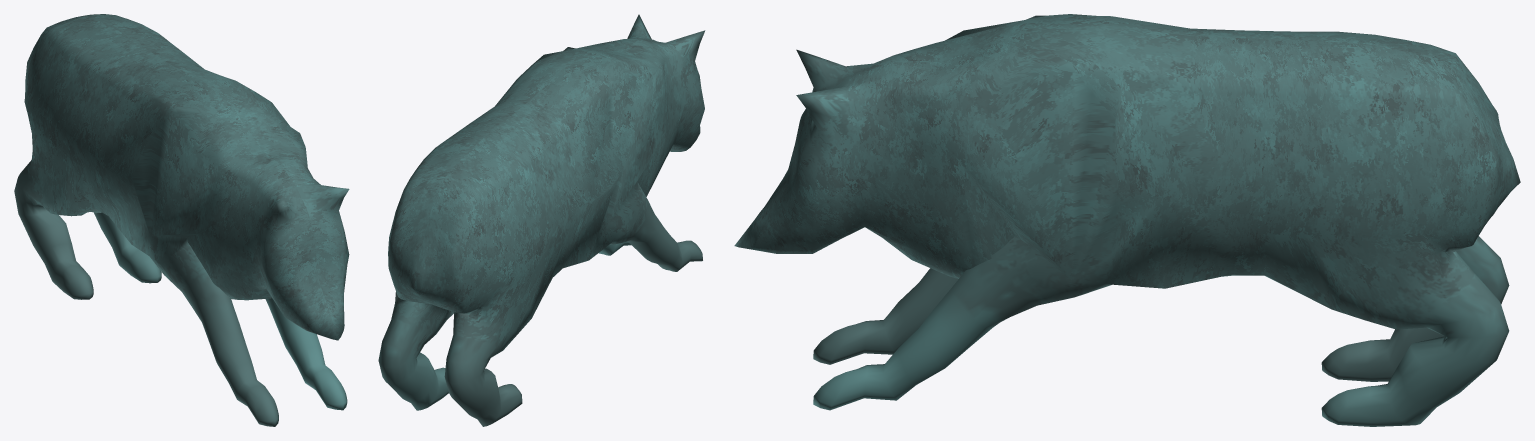
Rendered from piesblend_000030.obj.
The picture shows the model from 3 angles, left to right: view 1: azimuth 30°, elevation 25°; view 2: azimuth 150°, elevation 25°; view 3: azimuth 270°, elevation 25°; orthographic projection. The views are drawn at different scales.
Visible parts, largest first — view 1: Cube; view 2: Cube; view 3: Cube.
Part boxes in pixels (x1,y1,x2,y2): Cube: (14,14,349,426); Cube: (378,14,705,426); Cube: (734,14,1520,426).
Bounding box in the file's own units: 2.55 × 4.82 × 9.14.
1 material, 1 textured.
